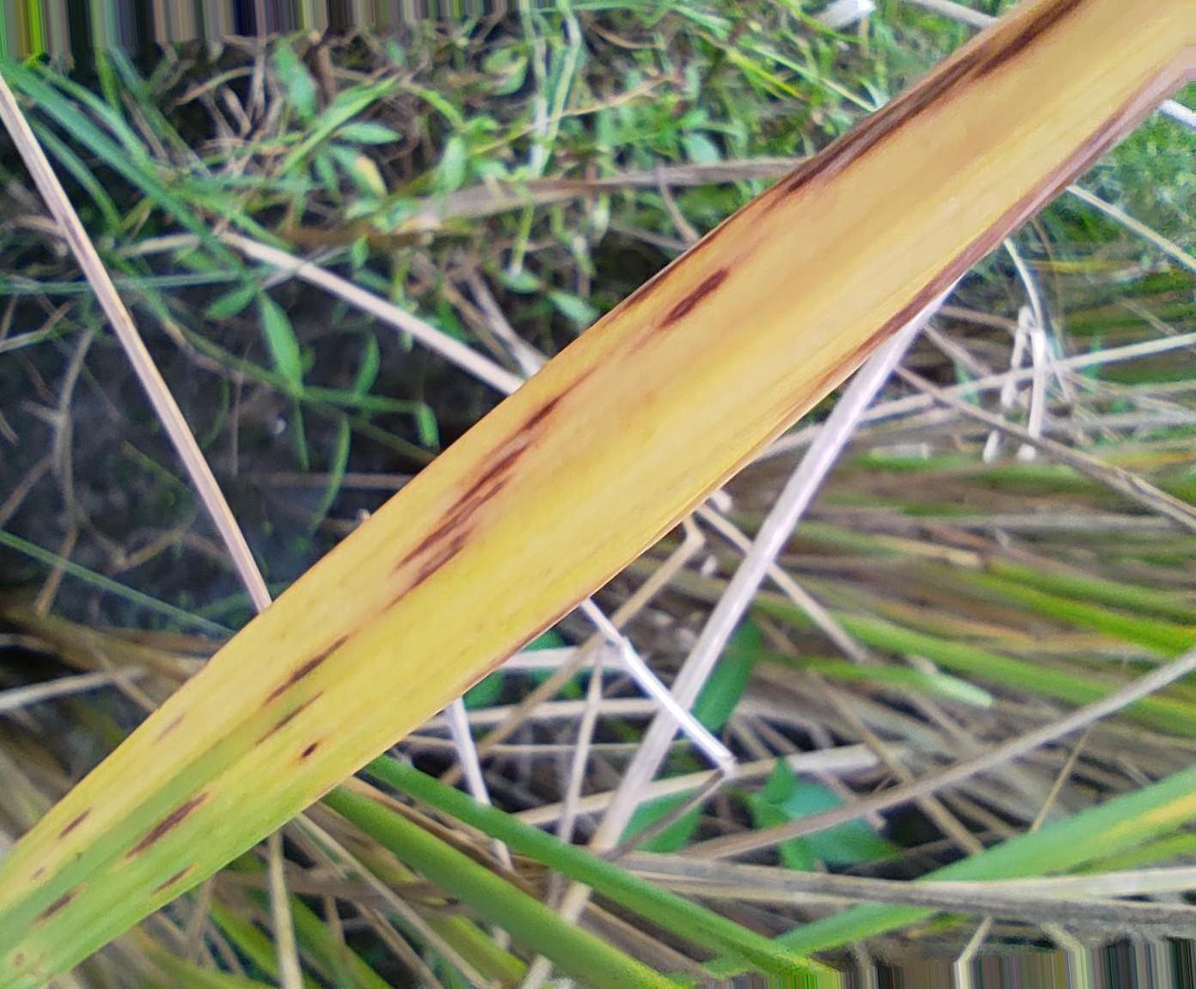LEAF: (0, 0, 1185, 988)
NBS: (656, 50, 1186, 534), (603, 42, 995, 327), (951, 0, 1083, 92), (395, 475, 513, 568), (627, 266, 731, 357), (384, 520, 480, 612), (499, 371, 593, 446), (262, 636, 347, 708), (447, 442, 532, 513), (126, 795, 205, 857), (254, 691, 324, 747), (154, 867, 190, 894), (38, 893, 73, 920), (156, 713, 185, 742), (60, 810, 89, 838), (301, 742, 318, 758)
